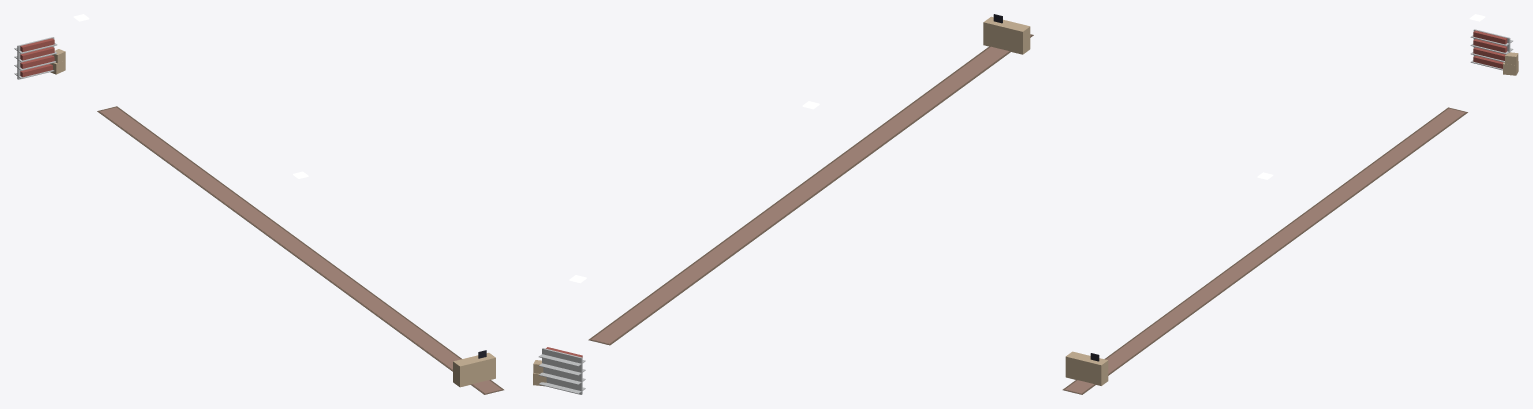
Rendered from fine-s0.glb.
3 renders of one model, left to right at view 1: azimuth 30°, elevation 25°; view 2: azimuth 150°, elevation 25°; view 3: azimuth 330°, elevation 25°, orthographic. The views are drawn at different scales.
Visible parts, largest first — view 1: soft-s0, shelving.000, shop-counter.000; view 2: soft-s0, shelving.000, shop-counter.000; view 3: soft-s0, shelving.000, shop-counter.000.
Part boxes in pixels (<box>): soft-s0: <box>97,106,503,394</box>; shelving.000: <box>14,37,57,79</box>; shop-counter.000: <box>453,350,495,387</box>; soft-s0: <box>588,34,1033,345</box>; shelving.000: <box>538,347,585,394</box>; shop-counter.000: <box>983,14,1030,54</box>; soft-s0: <box>1062,107,1467,394</box>; shelving.000: <box>1470,29,1513,70</box>; shop-counter.000: <box>1065,351,1108,385</box>.
Size of the model in its own units: 2.6 by 3.63 by 38.36.
